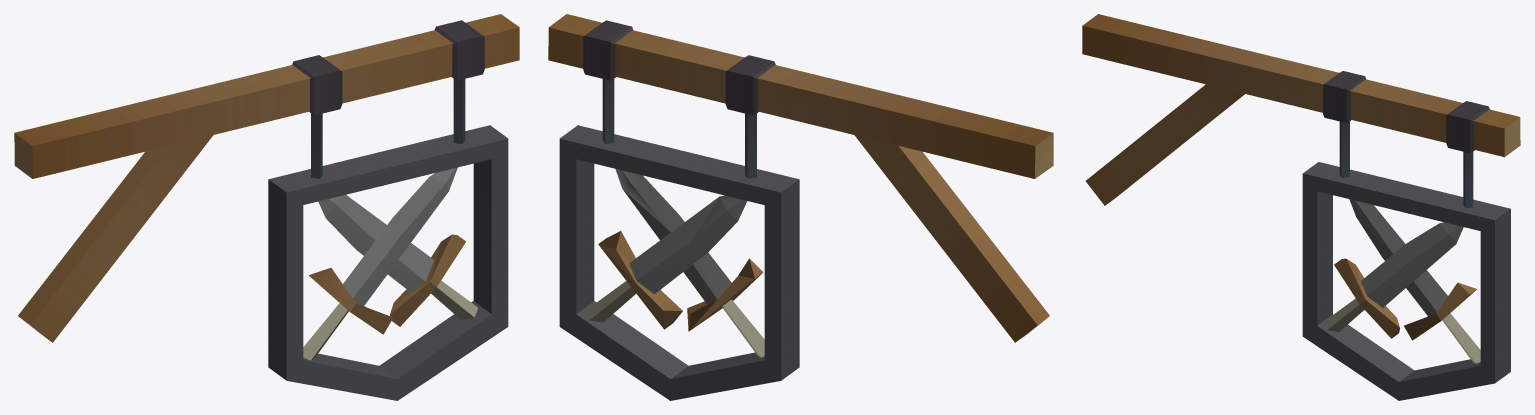
The model's file is SignBoard_3_LOD1.fbx.
The picture shows the model from 3 angles, left to right: view 1: azimuth 30°, elevation 25°; view 2: azimuth 150°, elevation 25°; view 3: azimuth 330°, elevation 25°; orthographic projection. The views are drawn at different scales.
Visible parts, largest first — view 1: polySurface10645; view 2: polySurface10645; view 3: polySurface10645.
Boxes of the visible parts, box(x1,y1,x2,y2) form: polySurface10645: box(14, 14, 519, 400); polySurface10645: box(548, 14, 1053, 400); polySurface10645: box(1082, 14, 1520, 400).
Bounding box in the file's own units: 308 × 209 × 23.29.
